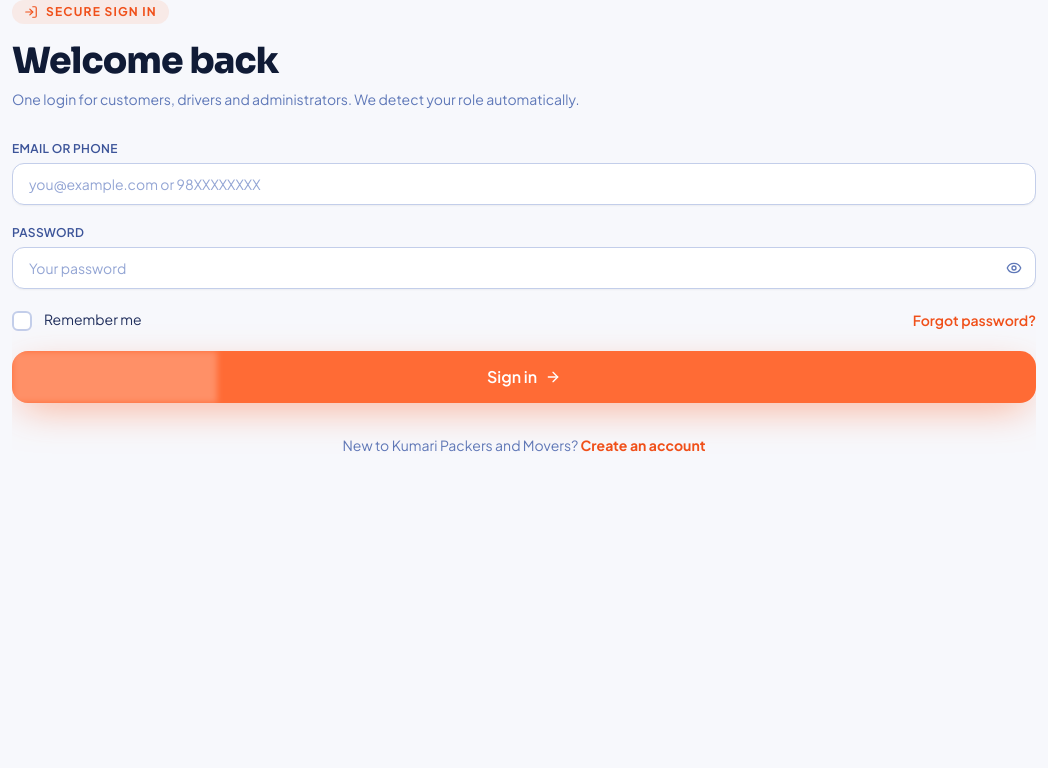
login form › shows the server message on bad credentials without leaking which field was wrong
The image size is (1048, 768).
Type "a@b.com" into the field labelled "Email or phone".
click(524, 184); type("a@b.com")  # box [12,163,1036,205]
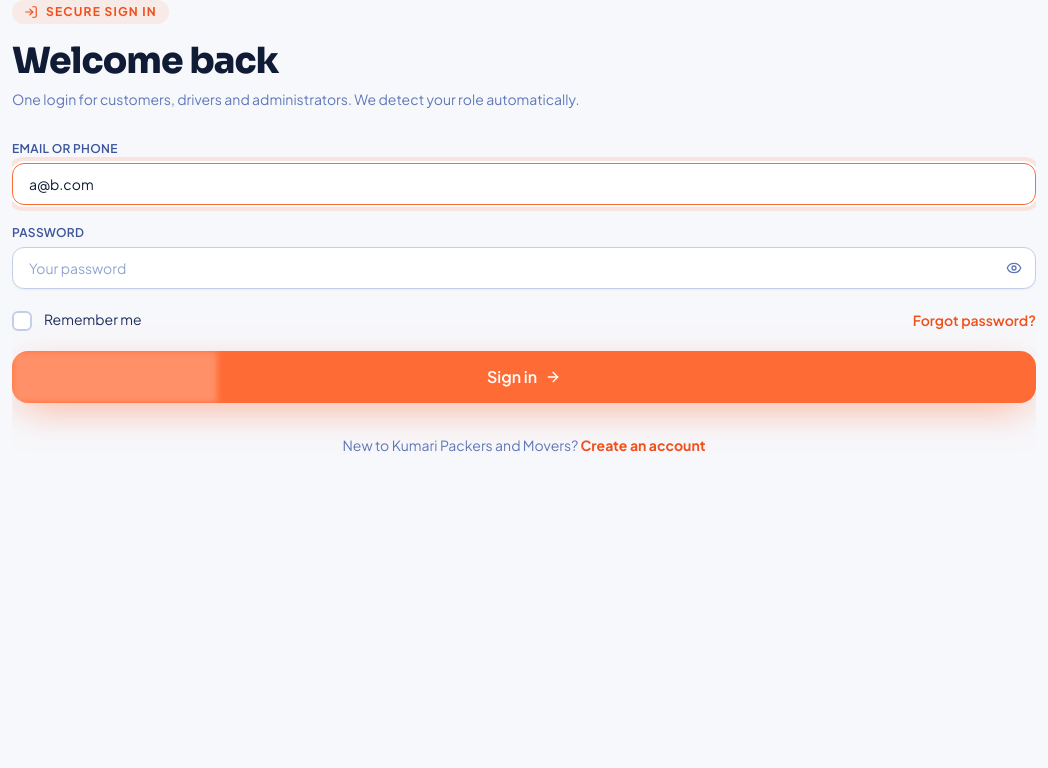
Type "wrongpass" into the password field named "password".
click(524, 268); type("wrongpass")  # box [12,247,1036,289]
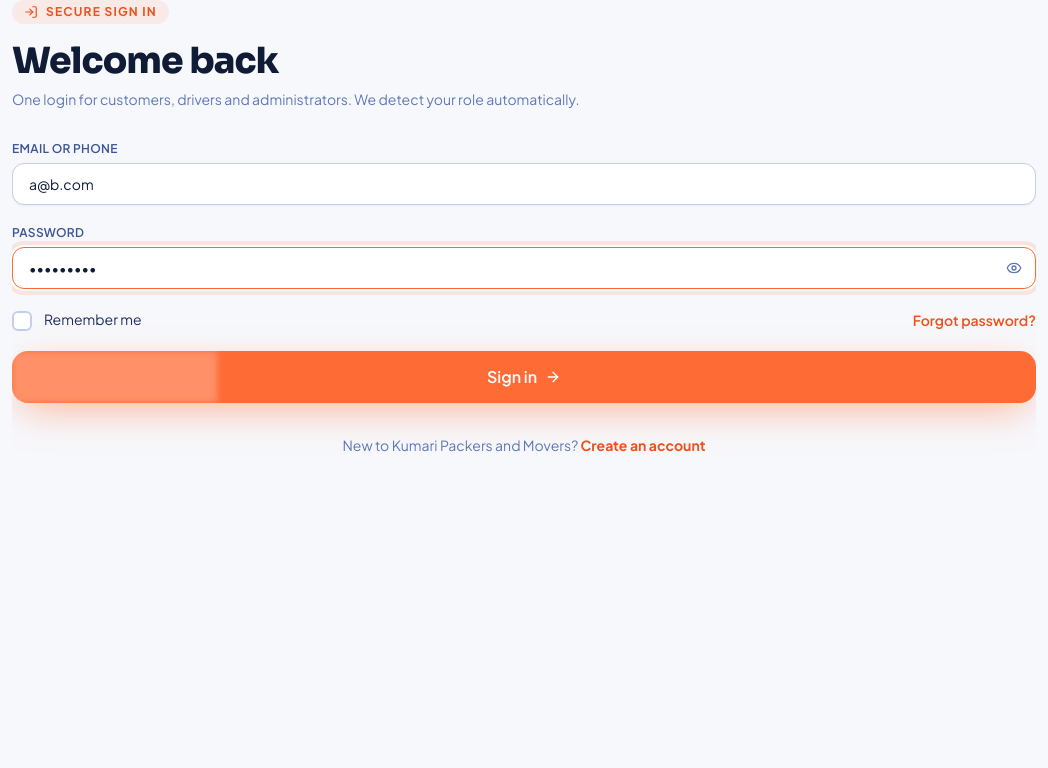
Click the button "Sign in".
click(524, 377)  # box [12,351,1036,403]
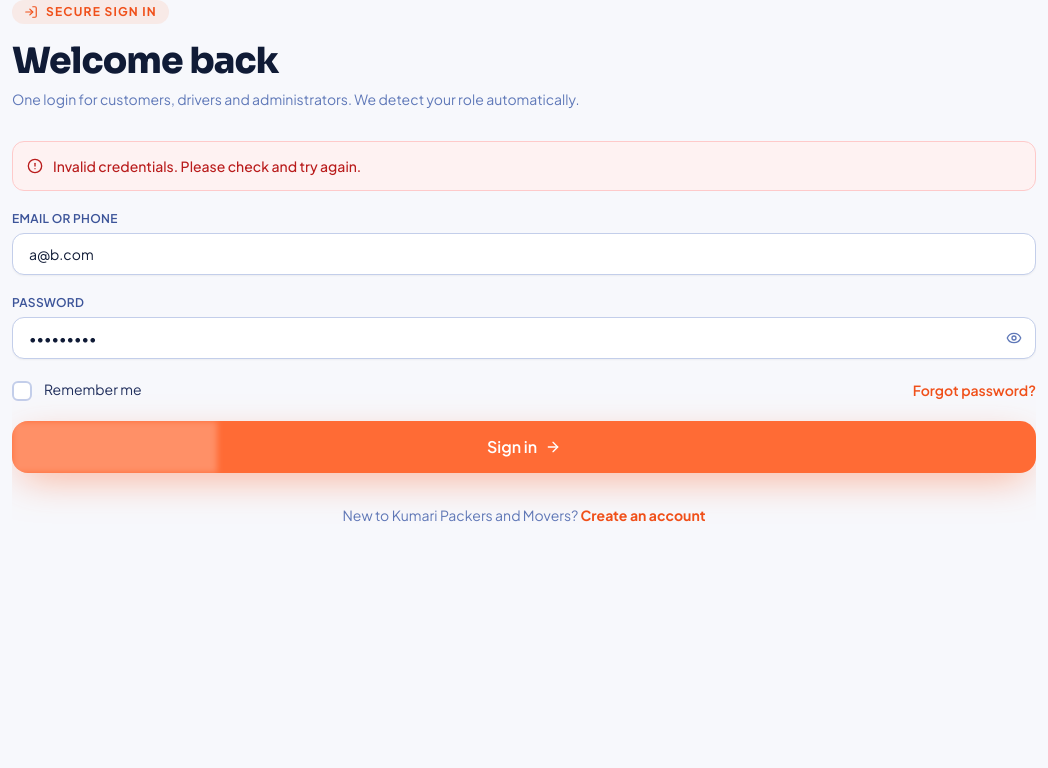
Expected: the message shows "Invalid credentials", [53,157,361,175]
